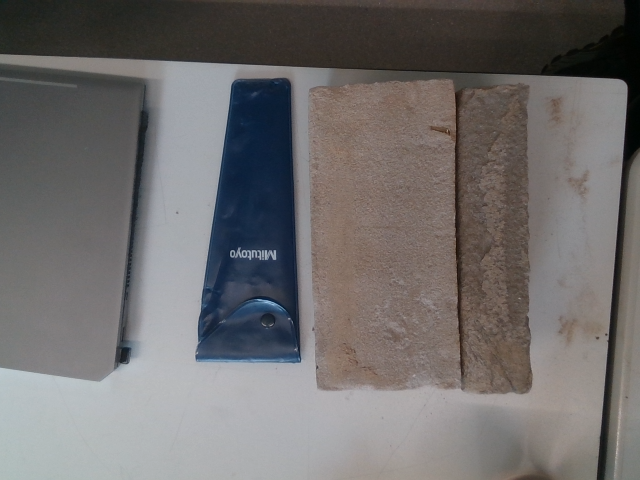brick: (307, 81, 463, 388)
